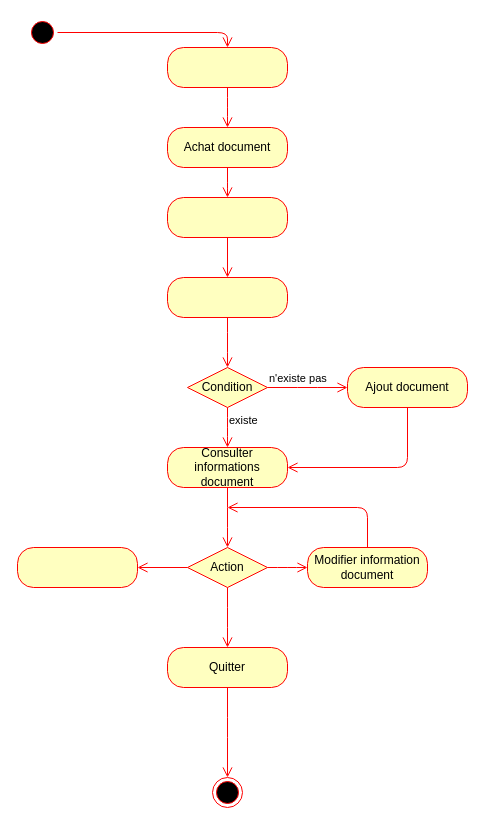
Image size: 485x825. Some labels were removed from this diagram. Here are the shapes that lost their labels. From the top down, the centre of each, then its label:
At point 227,67: "Identification".
At point 227,217: "Réception document".
At point 227,297: "Saisir information document".
At point 77,567: "Mettre hors service".
